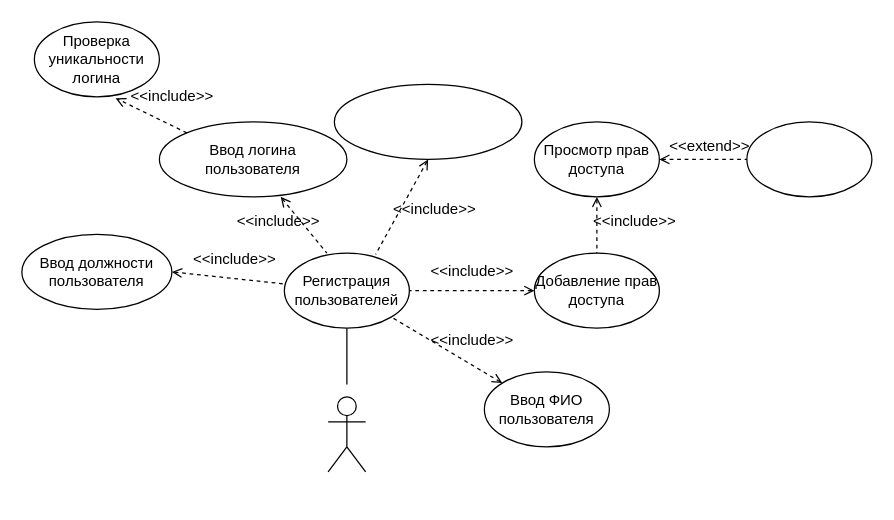
Image size: 894x520. Some labels were removed from this diagram. Each missing label, with the centre of its shape:
Администратор: pixel 346 434
Ввод пароля пользователя: pixel 427 121
Получение данных о правах доступа: pixel 809 159
